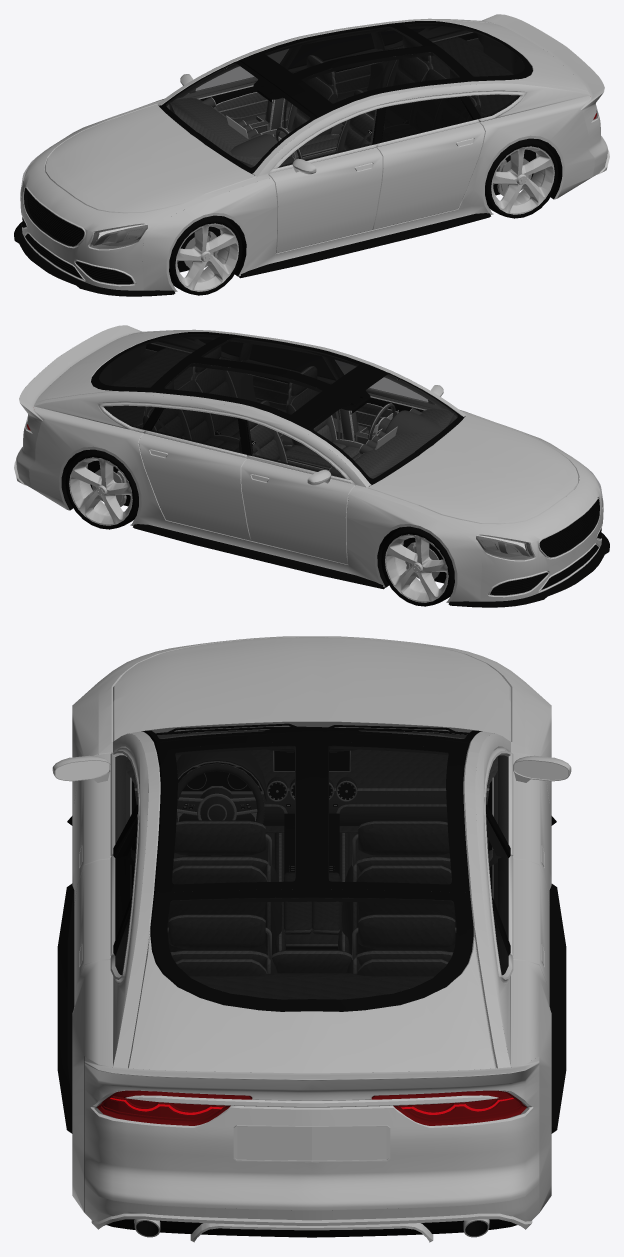
File: cool-car.glb
The picture shows the model from 3 angles, top to bottom: view 1: azimuth 30°, elevation 25°; view 2: azimuth 150°, elevation 25°; view 3: azimuth 270°, elevation 25°; orthographic projection. The views are drawn at different scales.
Visible parts, largest first — view 1: Mid Size Car Part.001, Mid Size Car Part.026, Mid Size Car Part.067, Mid Size Car Part.109, Mid Size Car Part.103, Mid Size Car Part.030, Mid Size Car Part.028, Mid Size Car Part.077, Mid Size Car Part.113, Wheel.060, Wheel.059, Mid Size Car Part.124 (+17 smaller); view 2: Mid Size Car Part.001, Mid Size Car Part.026, Mid Size Car Part.067, Mid Size Car Part.109, Mid Size Car Part.103, Mid Size Car Part.029, Mid Size Car Part.027, Mid Size Car Part.077, Mid Size Car Part.113, Wheel.058, Wheel.057, Mid Size Car Part.124 (+20 smaller); view 3: Mid Size Car Part.124, Mid Size Car Part.113, Mid Size Car Part.103, Mid Size Car Part.026, Mid Size Car Part.001, Mid Size Car Part.036, Mid Size Car Part.077, Mid Size Car Part.062, Mid Size Car Part.045, Mid Size Car Part.044, Mid Size Car Part.109, Mid Size Car Part.006 (+18 smaller).
Boxes of the visible parts, x1,y1,x2,y2 form: Mid Size Car Part.001: (57, 95, 594, 291); Mid Size Car Part.026: (45, 104, 256, 213); Mid Size Car Part.067: (20, 100, 270, 290); Mid Size Car Part.109: (158, 52, 335, 176); Mid Size Car Part.103: (252, 22, 471, 112); Mid Size Car Part.030: (268, 147, 382, 253); Mid Size Car Part.028: (372, 122, 485, 229); Mid Size Car Part.077: (175, 26, 589, 176); Mid Size Car Part.113: (392, 20, 588, 91); Wheel.060: (485, 138, 558, 218); Wheel.059: (169, 215, 242, 295); Mid Size Car Part.124: (478, 14, 607, 159); Mid Size Car Part.001: (29, 406, 566, 602); Mid Size Car Part.026: (367, 415, 578, 524); Mid Size Car Part.067: (353, 411, 603, 601); Mid Size Car Part.109: (288, 363, 465, 487); Mid Size Car Part.103: (152, 333, 371, 423); Mid Size Car Part.029: (241, 458, 355, 564); Mid Size Car Part.027: (138, 433, 251, 540); Mid Size Car Part.077: (34, 337, 448, 487); Mid Size Car Part.113: (35, 331, 231, 402); Wheel.058: (65, 449, 138, 529); Wheel.057: (381, 526, 454, 606); Mid Size Car Part.124: (16, 325, 145, 470); Mid Size Car Part.124: (84, 1057, 539, 1210); Mid Size Car Part.113: (128, 889, 495, 1073); Mid Size Car Part.103: (141, 741, 482, 899); Mid Size Car Part.026: (113, 637, 510, 741); Mid Size Car Part.001: (72, 682, 551, 1212); Mid Size Car Part.036: (126, 732, 497, 832); Mid Size Car Part.077: (110, 733, 513, 1065); Mid Size Car Part.062: (84, 1183, 539, 1237); Mid Size Car Part.045: (168, 820, 281, 954); Mid Size Car Part.044: (342, 820, 455, 954); Mid Size Car Part.109: (129, 722, 494, 752); Mid Size Car Part.006: (57, 883, 566, 1133).
Bounding box in the file's own units: 5.39 × 1.39 × 2.27.
Materials: 22 (3 with a texture image).
